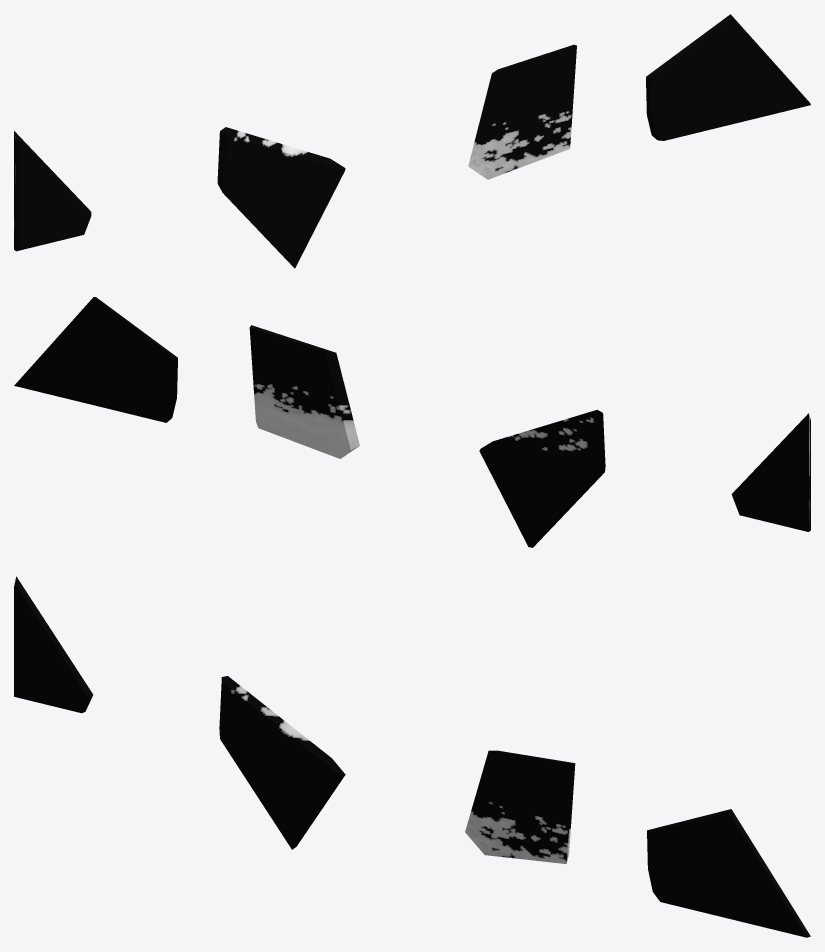
The model's file is Effect_ui_boli_01.fbx.
3 renders of one model, top to bottom at view 1: azimuth 30°, elevation 25°; view 2: azimuth 150°, elevation 25°; view 3: azimuth 330°, elevation 25°, orthographic.
Parts seen in each view (by area): view 1: Box001_frag_060, Box001_frag_088, Box001_frag_047, Box001_frag_081; view 2: Box001_frag_060, Box001_frag_088, Box001_frag_047, Box001_frag_081; view 3: Box001_frag_060, Box001_frag_088, Box001_frag_047, Box001_frag_081.
Part boxes in pixels (left/top/right/bottom): Box001_frag_060: left=646, top=14, right=810, bottom=140; Box001_frag_088: left=217, top=127, right=345, bottom=268; Box001_frag_047: left=468, top=44, right=576, bottom=179; Box001_frag_081: left=14, top=131, right=91, bottom=251; Box001_frag_060: left=14, top=297, right=177, bottom=422; Box001_frag_088: left=479, top=410, right=605, bottom=547; Box001_frag_047: left=249, top=325, right=359, bottom=458; Box001_frag_081: left=731, top=413, right=810, bottom=531; Box001_frag_060: left=647, top=809, right=810, bottom=937; Box001_frag_088: left=219, top=676, right=345, bottom=849; Box001_frag_047: left=465, top=750, right=575, bottom=863; Box001_frag_081: left=14, top=576, right=93, bottom=713.
Size of the model in its own units: 2.96 by 0.7275 by 0.015.
Materials: 1 (1 with a texture image).
